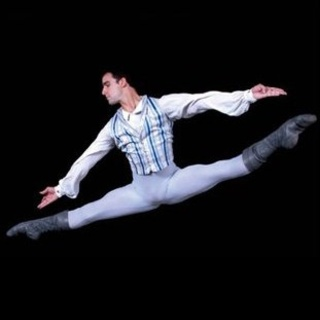without_mask: (101, 73, 122, 104)
